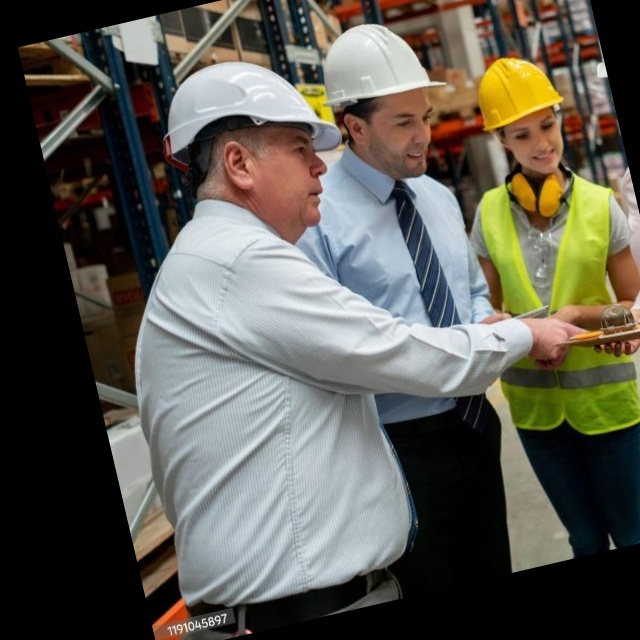Con_Casco: (149, 44, 362, 268), (310, 5, 463, 189), (468, 45, 580, 185)
Con_Chaleco: (470, 159, 640, 448)
Sin_Chaleco: (104, 199, 425, 614)
